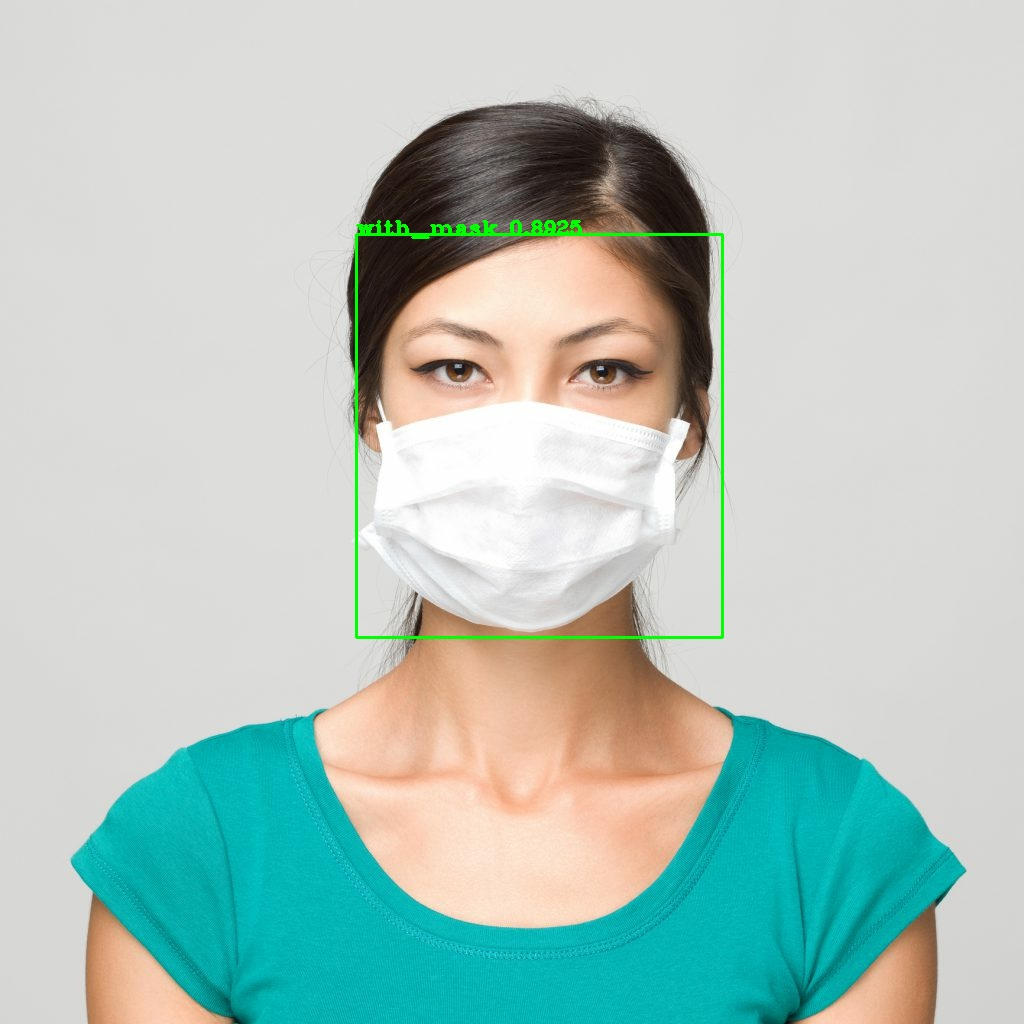with_mask: (345, 219, 716, 680)
